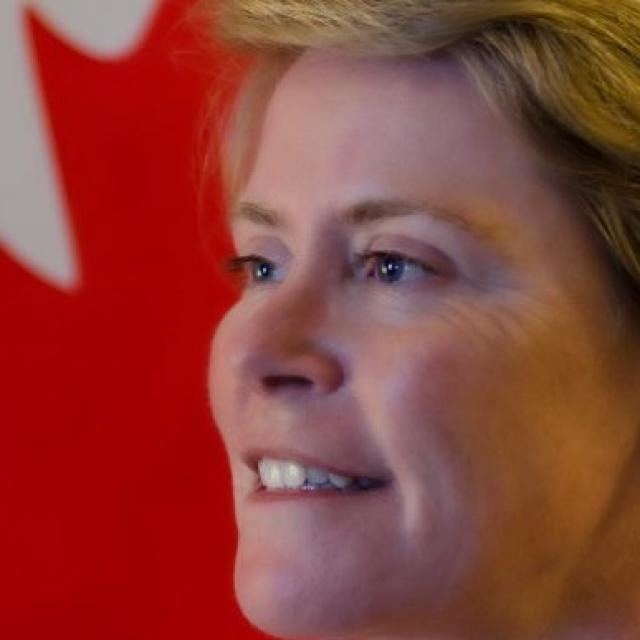Normal: (210, 38, 640, 630)
